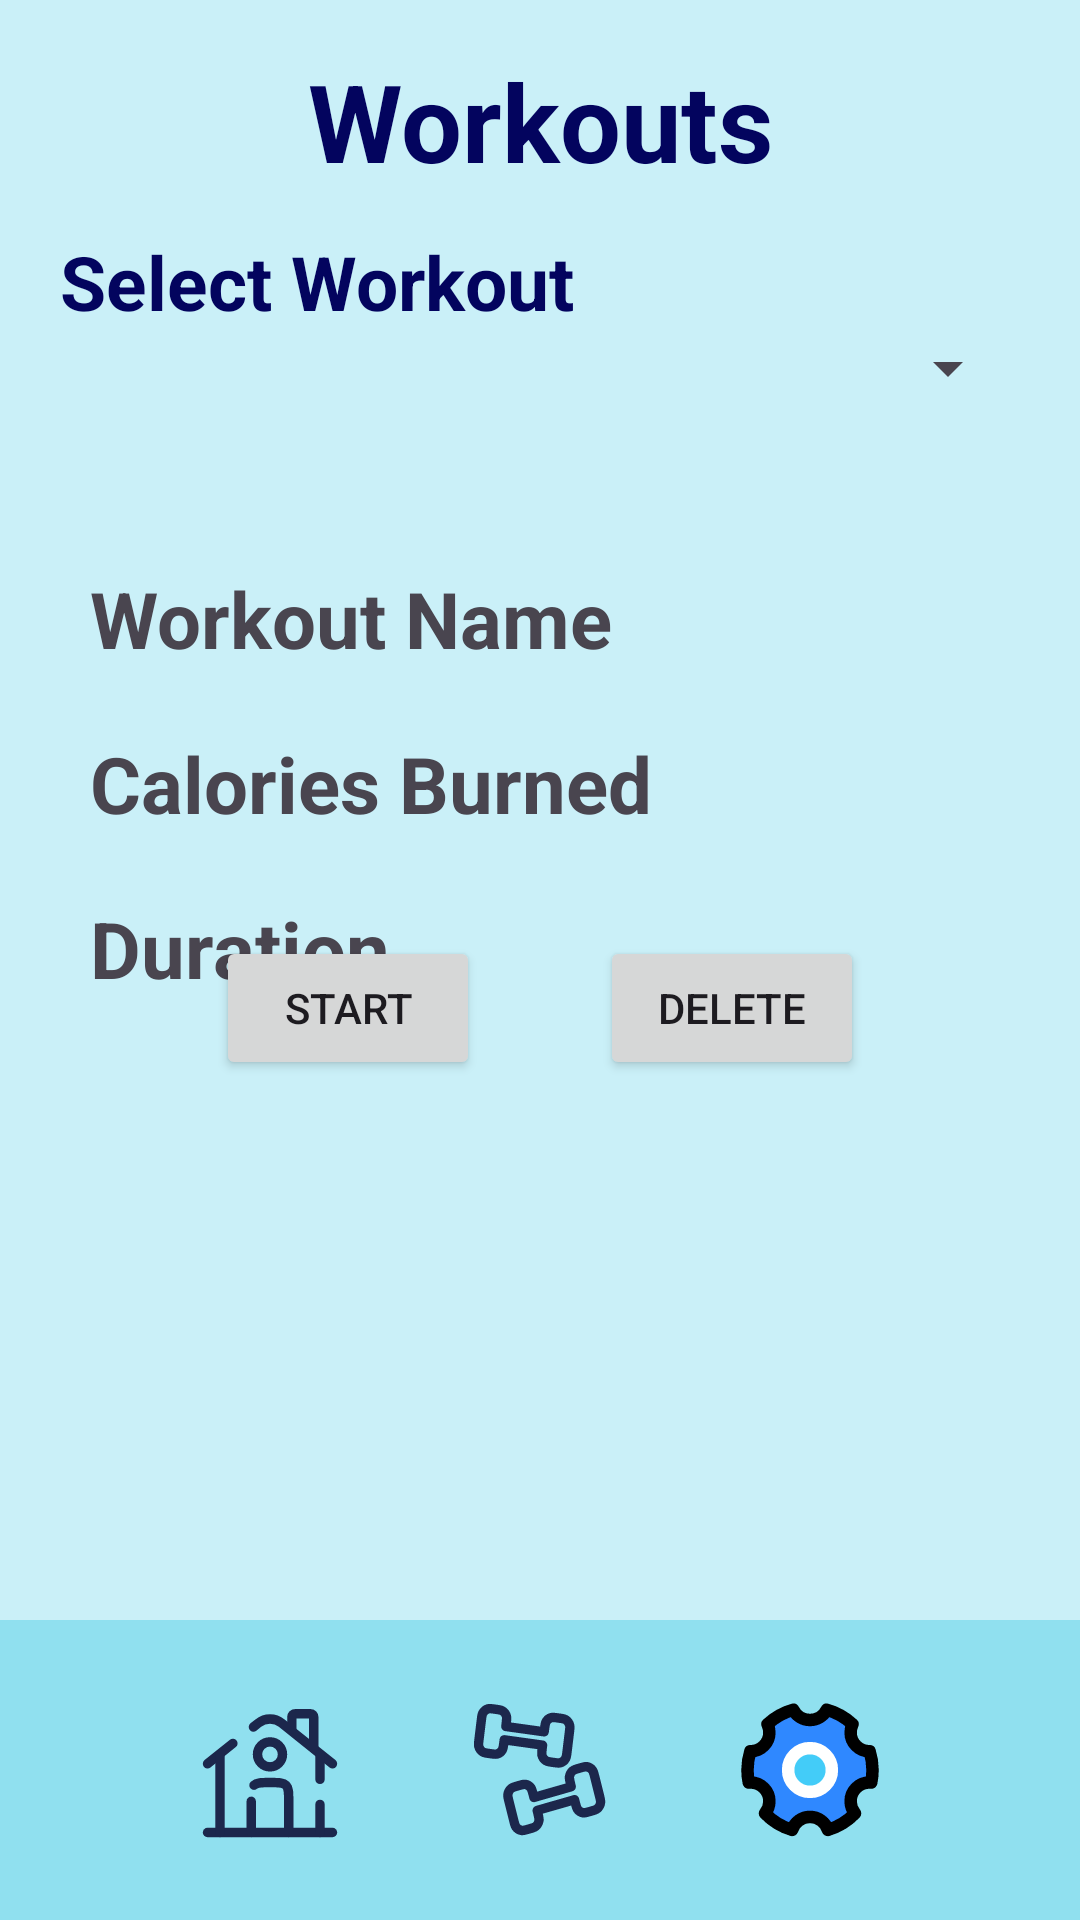

Where to tap for icons on this 1080x1920 app screen, as (x=x, y=y):
dumbbells: (x=540, y=1770)
home: (x=270, y=1773)
setting: (x=810, y=1770)
